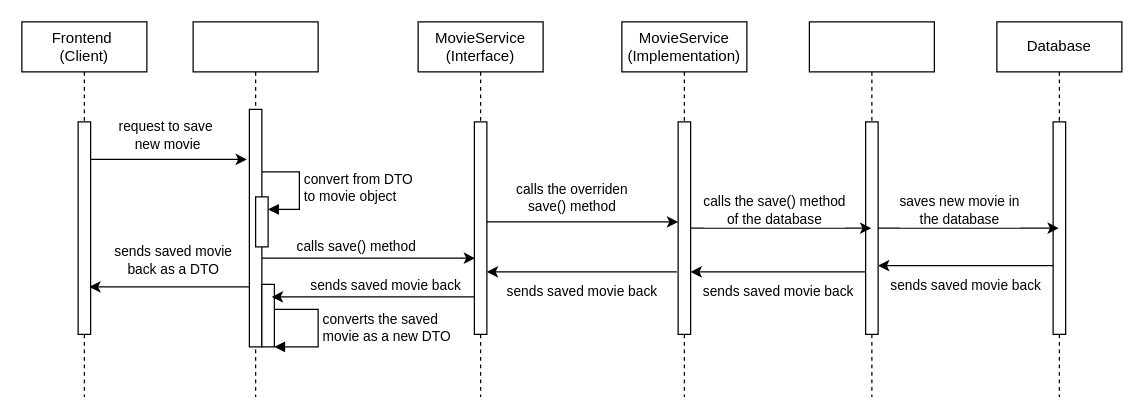
Image size: 1144x419. Some labels were removed from this diagram. Each missing label, with the box of its shape:
MovieController: (192, 21, 318, 397)
MovieRepository: (808, 21, 934, 397)
